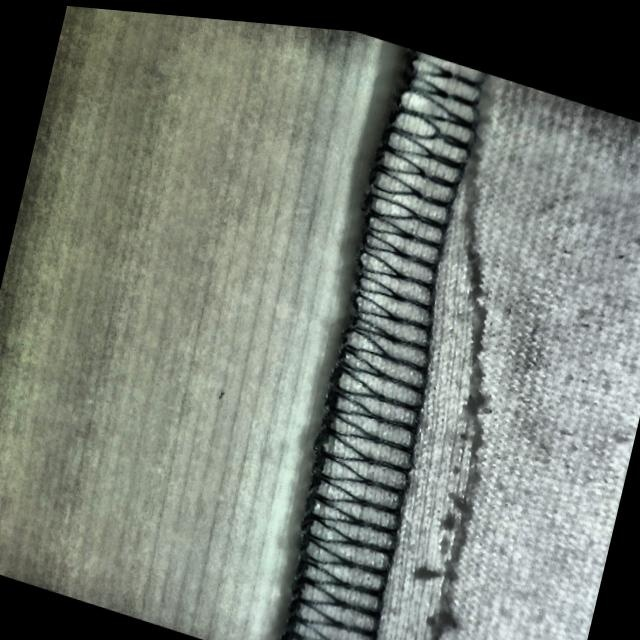seam: (210, 115, 624, 640)
